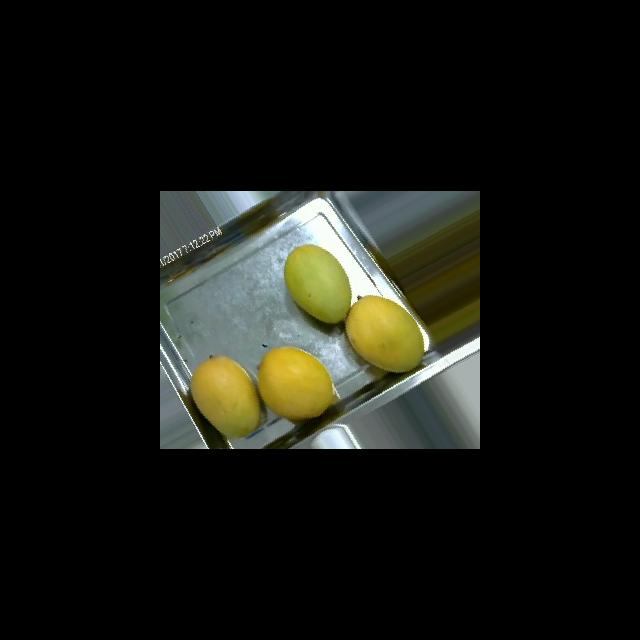Mango: (189, 354, 266, 438), (345, 294, 425, 373), (257, 346, 339, 421), (283, 243, 351, 324)
